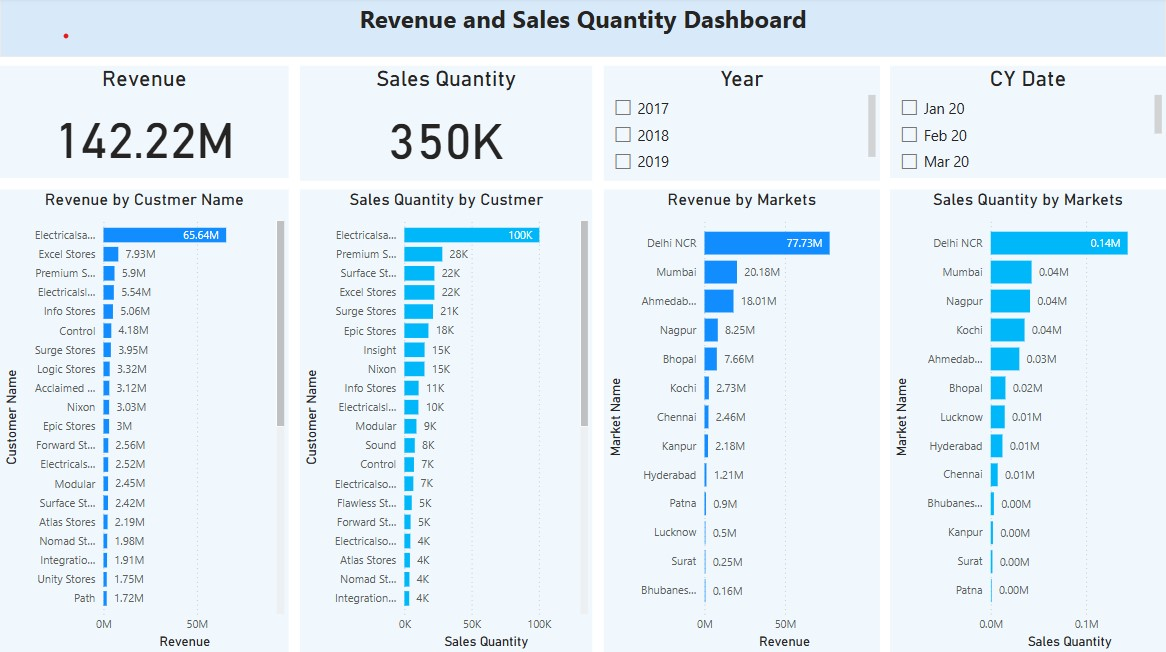

The page's visual inventory and layout, read from the dashboard file:
{"tool":"powerbi","page":{"name":"RevenueandSalesQuantityDashboard","canvas":[1280,720],"ordinal":0},"visuals":[{"type":"textbox","box":[0,0,1280.3,65.9],"z":0},{"type":"card","title":"Revenue","fields":{"Values":["BaseMeasures.Revenue"]},"box":[0,75.5,317,123.5],"z":1000},{"type":"card","title":"Sales Quantity","fields":{"Values":["BaseMeasures.Sales Qty"]},"box":[329.3,75.5,321.1,126.2],"z":2000},{"type":"barChart","title":"Revenue by Custmer Name","fields":{"Category":["sales customers.custmer_name"],"Y":["BaseMeasures.Revenue"]},"box":[0,211.3,317,509.1],"z":3000},{"type":"barChart","title":"Sales Quantity by Custmer","fields":{"Category":["sales customers.custmer_name"],"Y":["BaseMeasures.Sales Qty"]},"box":[329.3,211.3,321.1,509.1],"z":4000},{"type":"slicer","title":"Year","fields":{"Values":["sales date.year"]},"box":[662.8,75.5,303.3,126.2],"z":5000},{"type":"slicer","title":"CY Date","fields":{"Values":["sales date.cy_date"]},"box":[977,75.5,303.3,123.5],"z":6000},{"type":"barChart","title":"Revenue by Markets","fields":{"Category":["sales markets.markets_name"],"Y":["BaseMeasures.Revenue"]},"box":[662.8,211.3,303.3,509.1],"z":7000},{"type":"barChart","title":"Sales Quantity by Markets","fields":{"Category":["sales markets.markets_name"],"Y":["BaseMeasures.Sales Qty"]},"box":[977,211,303,509],"z":8000}]}

Visuals, with their boxes in screenshot pixels (x1, y1, x2, y2), scaled from the page's 1280x720 canvas onto the 1166x652 screenshot:
textbox: Rect(0, 0, 1165, 60)
"Revenue" card: Rect(0, 68, 289, 180)
"Sales Quantity" card: Rect(300, 68, 592, 183)
"Revenue by Custmer Name" barChart: Rect(0, 191, 289, 651)
"Sales Quantity by Custmer" barChart: Rect(300, 191, 592, 651)
"Year" slicer: Rect(604, 68, 880, 183)
"CY Date" slicer: Rect(890, 68, 1165, 180)
"Revenue by Markets" barChart: Rect(604, 191, 880, 651)
"Sales Quantity by Markets" barChart: Rect(890, 191, 1165, 651)
